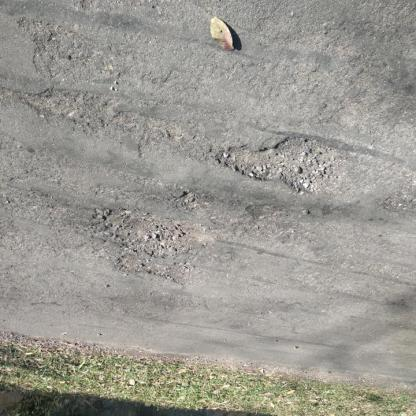pothole: (214, 139, 347, 199), (82, 212, 213, 260), (113, 258, 202, 288), (175, 189, 204, 212)
